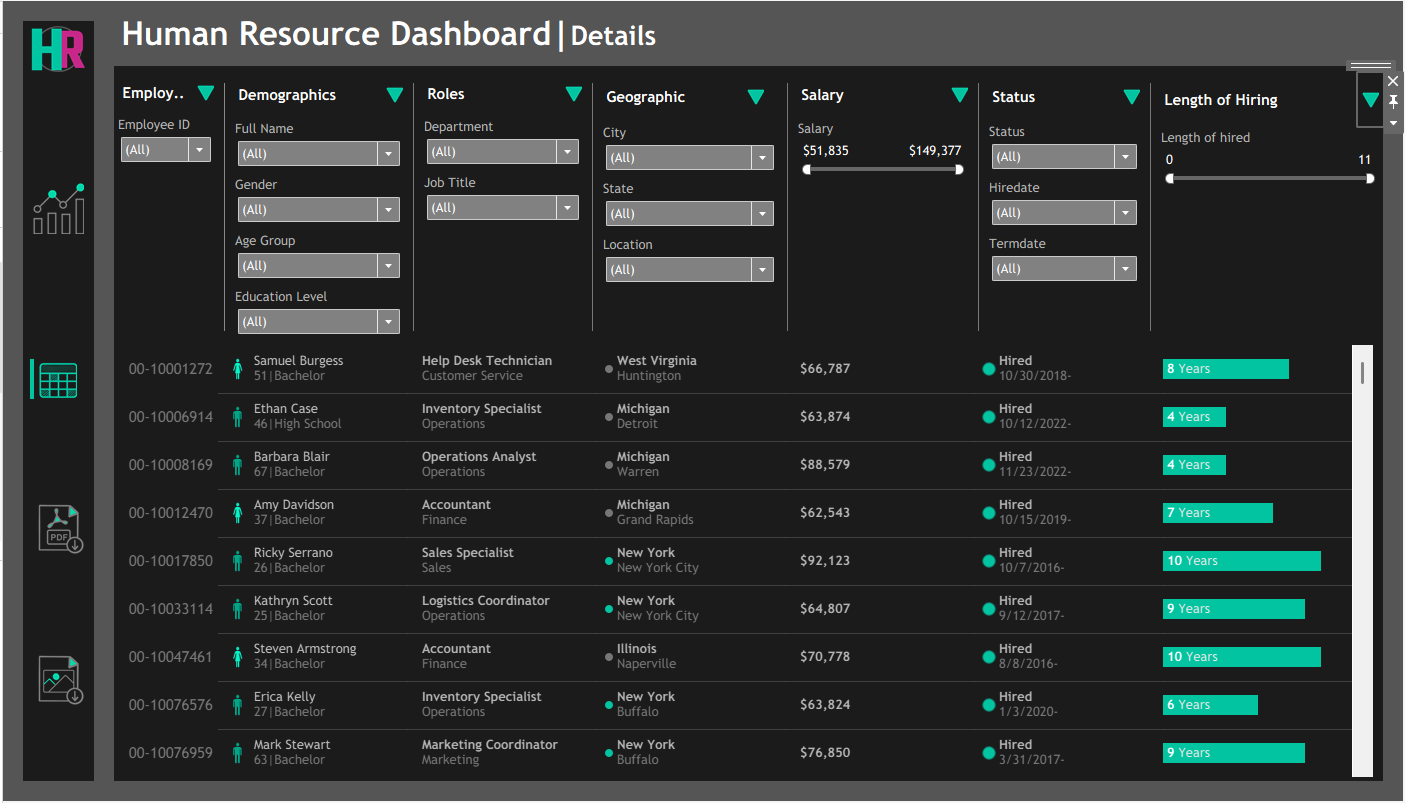

The page's visual inventory and layout, read from the dashboard file:
{"tool":"tableau","page":{"name":"HR Details","canvas":[1400,800],"ordinal":0},"visuals":[{"type":"text","box":[111,0,700.5,65]},{"type":"blank","box":[811.5,0,568.5,65]},{"type":"image","param":"Image/Logo.png","box":[20,20,71,55]},{"type":"text","box":[111,72,79,40]},{"type":"dashboard-object","box":[190,72,25,40]},{"type":"blank","box":[215,72,13,53]},{"type":"text","box":[228,72,151,44]},{"type":"dashboard-object","box":[379,72,25,44]},{"type":"blank","box":[404,72,13,53]},{"type":"text","box":[417,72,141,42]},{"type":"dashboard-object","box":[558,72,25,42]},{"type":"blank","box":[583,72,13,53]},{"type":"text","box":[596,72,144,48]},{"type":"dashboard-object","box":[740,72,25,48]},{"type":"blank","box":[778,72,13,53]},{"type":"text","box":[791,72,153,44]},{"type":"dashboard-object","box":[944,72,25,44]},{"type":"blank","box":[969,72,13,53]},{"type":"text","box":[981.9,72,134,47]},{"type":"dashboard-object","box":[1116,72,25,47]},{"type":"blank","box":[1140.9,72,13,53]},{"type":"text","box":[1153.9,72,201.1,53]},{"type":"dashboard-object","box":[1355,72,25,53]},{"type":"blank","box":[20,75,71,75]},{"type":"filter","title":"Detailed Info","param":"[federated.0t0kolw06xhszy0zyx2f31rujlr7].[none:Employee_ID:nk]","box":[117,111,104,56]},{"type":"filter","title":"Detailed Info","param":"[federated.0t0kolw06xhszy0zyx2f31rujlr7].[none:Department:nk]","box":[423,113,166,53]},{"type":"filter","title":"Detailed Info","param":"[federated.0t0kolw06xhszy0zyx2f31rujlr7].[none:Calculation_1472253993500675:nk]","box":[234,115,176,54.5]},{"type":"filter","title":"Detailed Info","param":"[federated.0t0kolw06xhszy0zyx2f31rujlr7].[sum:Salary:qk]","box":[797,115,178,68]},{"type":"filter","title":"Detailed Info","param":"[federated.0t0kolw06xhszy0zyx2f31rujlr7].[none:Calculation_1028325780664320:nk]","box":[987.9,118,159,54]},{"type":"filter","title":"Detailed Info","param":"[federated.0t0kolw06xhszy0zyx2f31rujlr7].[none:City:nk]","box":[602,119,182,54]},{"type":"filter","title":"Detailed Info","param":"[federated.0t0kolw06xhszy0zyx2f31rujlr7].[sum:Calculation_2598703950823424:qk]","box":[1159.9,124,214.1,62]},{"type":"worksheet","title":"Detailed Info","mark":"Shape","rows":["Employee_ID"],"cols":["Calculation_1472253993054210","Calculation_1472253993054210","Calculation_1472253993054210","Calculation_1472253993054210","Calculation_1472253993054210","Calculation_2598703950823424"],"box":[111,125,1269,655]},{"type":"dashboard-object","box":[30,160,51,96]},{"type":"filter","title":"Detailed Info","param":"[federated.0t0kolw06xhszy0zyx2f31rujlr7].[none:Job Title:nk]","box":[423,166,166,53]},{"type":"filter","title":"Detailed Info","param":"[federated.0t0kolw06xhszy0zyx2f31rujlr7].[none:Gender:nk]","box":[234,169.5,176,54.5]},{"type":"filter","title":"Detailed Info","param":"[federated.0t0kolw06xhszy0zyx2f31rujlr7].[none:Hiredate:ok]","box":[987.9,172,159,54]},{"type":"filter","title":"Detailed Info","param":"[federated.0t0kolw06xhszy0zyx2f31rujlr7].[none:State:nk]","box":[602,173,182,54]},{"type":"filter","title":"Detailed Info","param":"[federated.0t0kolw06xhszy0zyx2f31rujlr7].[none:Calculation_2248508125581322:nk]","box":[234,224,176,54.5]},{"type":"filter","title":"Detailed Info","param":"[federated.0t0kolw06xhszy0zyx2f31rujlr7].[none:Termdate:ok]","box":[987.9,226,159,54]},{"type":"filter","title":"Detailed Info","param":"[federated.0t0kolw06xhszy0zyx2f31rujlr7].[none:Calculation_2248508115984388:nk]","box":[602,227,182,54]},{"type":"blank","box":[30,256,51,100]},{"type":"filter","title":"Detailed Info","param":"[federated.0t0kolw06xhszy0zyx2f31rujlr7].[none:Education Level:nk]","box":[234,278.5,176,54.5]},{"type":"text","box":[616,348,100,30]},{"type":"dashboard-object","box":[30,356,51,46]},{"type":"blank","box":[27,358,4,40]},{"type":"blank","box":[30,402,51,100]},{"type":"dashboard-object","box":[30,502,51,51]},{"type":"blank","box":[30,553,51,61]},{"type":"dashboard-object","box":[30,614,51,130]}]}

Visuals, with their boxes on the page's 1400x800 design canvas (x1, y1, x2, y2). These are canvas units, not pixel positions in the 1405x803 screenshot, which may show the page scaled, cropped or inside an application window:
text: [x1=111, y1=0, x2=812, y2=65]
blank: [x1=812, y1=0, x2=1380, y2=65]
image: [x1=20, y1=20, x2=91, y2=75]
text: [x1=111, y1=72, x2=190, y2=112]
dashboard-object: [x1=190, y1=72, x2=215, y2=112]
blank: [x1=215, y1=72, x2=228, y2=125]
text: [x1=228, y1=72, x2=379, y2=116]
dashboard-object: [x1=379, y1=72, x2=404, y2=116]
blank: [x1=404, y1=72, x2=417, y2=125]
text: [x1=417, y1=72, x2=558, y2=114]
dashboard-object: [x1=558, y1=72, x2=583, y2=114]
blank: [x1=583, y1=72, x2=596, y2=125]
text: [x1=596, y1=72, x2=740, y2=120]
dashboard-object: [x1=740, y1=72, x2=765, y2=120]
blank: [x1=778, y1=72, x2=791, y2=125]
text: [x1=791, y1=72, x2=944, y2=116]
dashboard-object: [x1=944, y1=72, x2=969, y2=116]
blank: [x1=969, y1=72, x2=982, y2=125]
text: [x1=982, y1=72, x2=1116, y2=119]
dashboard-object: [x1=1116, y1=72, x2=1141, y2=119]
blank: [x1=1141, y1=72, x2=1154, y2=125]
text: [x1=1154, y1=72, x2=1355, y2=125]
dashboard-object: [x1=1355, y1=72, x2=1380, y2=125]
blank: [x1=20, y1=75, x2=91, y2=150]
"Detailed Info" filter: [x1=117, y1=111, x2=221, y2=167]
"Detailed Info" filter: [x1=423, y1=113, x2=589, y2=166]
"Detailed Info" filter: [x1=234, y1=115, x2=410, y2=170]
"Detailed Info" filter: [x1=797, y1=115, x2=975, y2=183]
"Detailed Info" filter: [x1=988, y1=118, x2=1147, y2=172]
"Detailed Info" filter: [x1=602, y1=119, x2=784, y2=173]
"Detailed Info" filter: [x1=1160, y1=124, x2=1374, y2=186]
"Detailed Info" worksheet (Shape marks): [x1=111, y1=125, x2=1380, y2=780]
dashboard-object: [x1=30, y1=160, x2=81, y2=256]
"Detailed Info" filter: [x1=423, y1=166, x2=589, y2=219]
"Detailed Info" filter: [x1=234, y1=170, x2=410, y2=224]
"Detailed Info" filter: [x1=988, y1=172, x2=1147, y2=226]
"Detailed Info" filter: [x1=602, y1=173, x2=784, y2=227]
"Detailed Info" filter: [x1=234, y1=224, x2=410, y2=278]
"Detailed Info" filter: [x1=988, y1=226, x2=1147, y2=280]
"Detailed Info" filter: [x1=602, y1=227, x2=784, y2=281]
blank: [x1=30, y1=256, x2=81, y2=356]
"Detailed Info" filter: [x1=234, y1=278, x2=410, y2=333]
text: [x1=616, y1=348, x2=716, y2=378]
dashboard-object: [x1=30, y1=356, x2=81, y2=402]
blank: [x1=27, y1=358, x2=31, y2=398]
blank: [x1=30, y1=402, x2=81, y2=502]
dashboard-object: [x1=30, y1=502, x2=81, y2=553]
blank: [x1=30, y1=553, x2=81, y2=614]
dashboard-object: [x1=30, y1=614, x2=81, y2=744]
